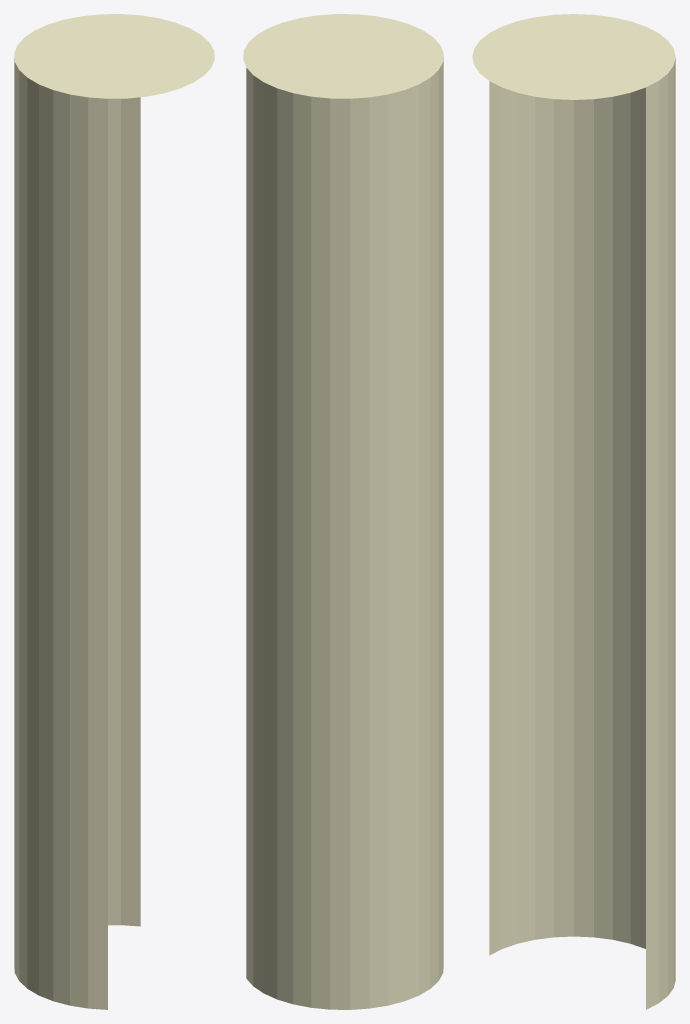
File: well.glb
The picture shows the model from 3 angles, left to right: view 1: azimuth 30°, elevation 25°; view 2: azimuth 150°, elevation 25°; view 3: azimuth 270°, elevation 25°; orthographic projection.
Parts seen in each view (by area): view 1: well; view 2: well; view 3: well.
Part boxes in pixels (bbox=[...]): well: bbox=[14, 14, 214, 1009]; well: bbox=[243, 14, 443, 1009]; well: bbox=[472, 14, 675, 1009].
Size of the model in its own units: 2 by 10 by 2.
